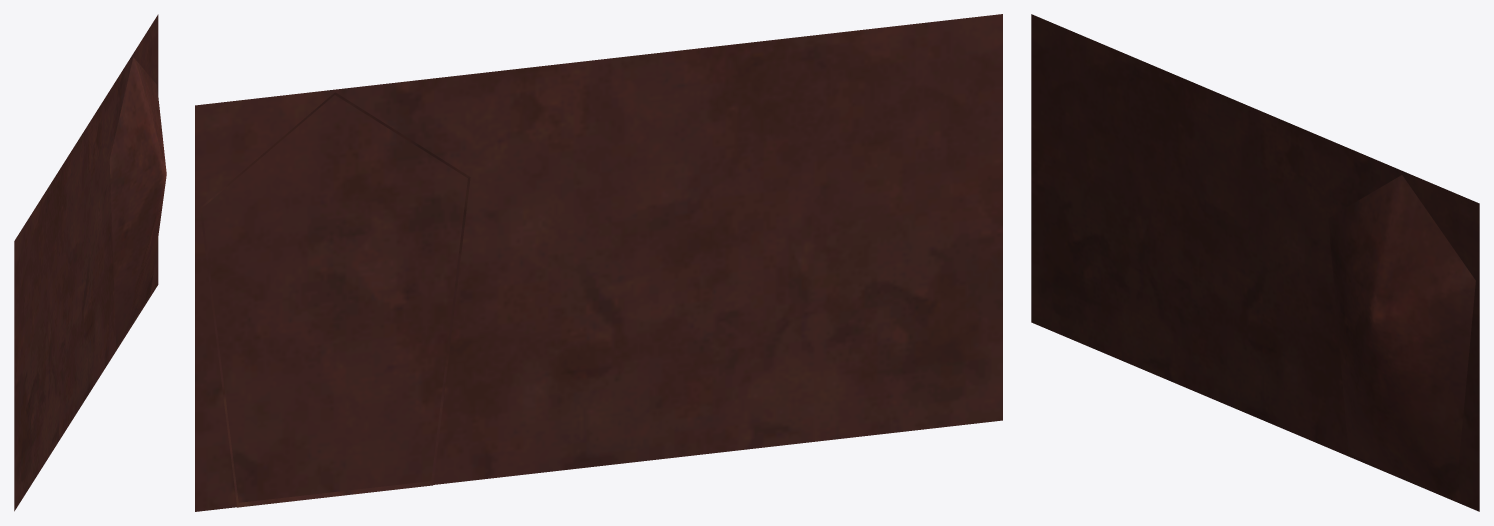
Rendered from lava_half_diagonal_01.fbx.
The picture shows the model from 3 angles, left to right: view 1: azimuth 30°, elevation 25°; view 2: azimuth 150°, elevation 25°; view 3: azimuth 270°, elevation 25°; orthographic projection. The views are drawn at different scales.
Parts seen in each view (by area): view 1: lava_half_diagonal_01-0; view 2: lava_half_diagonal_01-0; view 3: lava_half_diagonal_01-0.
Part boxes in pixels (x1=…): lava_half_diagonal_01-0: x1=14, y1=14, x2=166, y2=511; lava_half_diagonal_01-0: x1=195, y1=14, x2=1002, y2=511; lava_half_diagonal_01-0: x1=1031, y1=14, x2=1479, y2=511.
Size of the model in its own units: 3.63 by 2.75 by 3.62.
